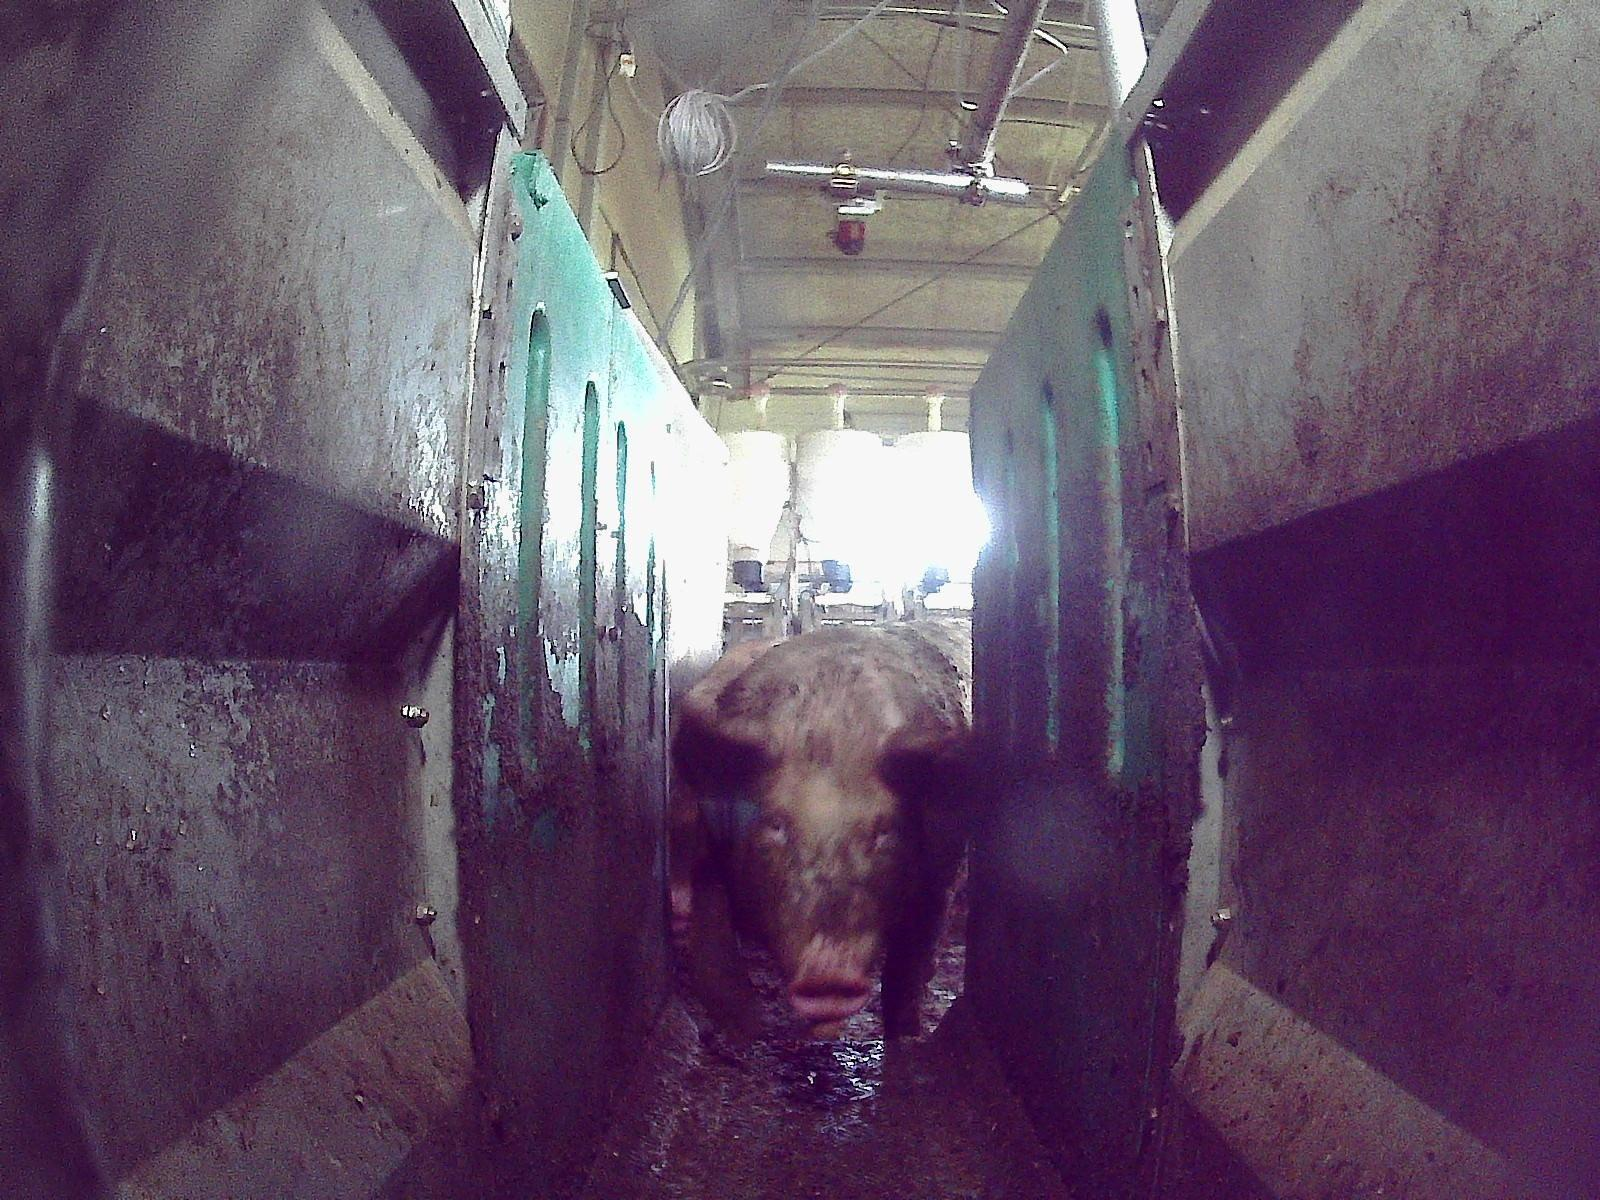Face: (738, 741, 909, 1016)
